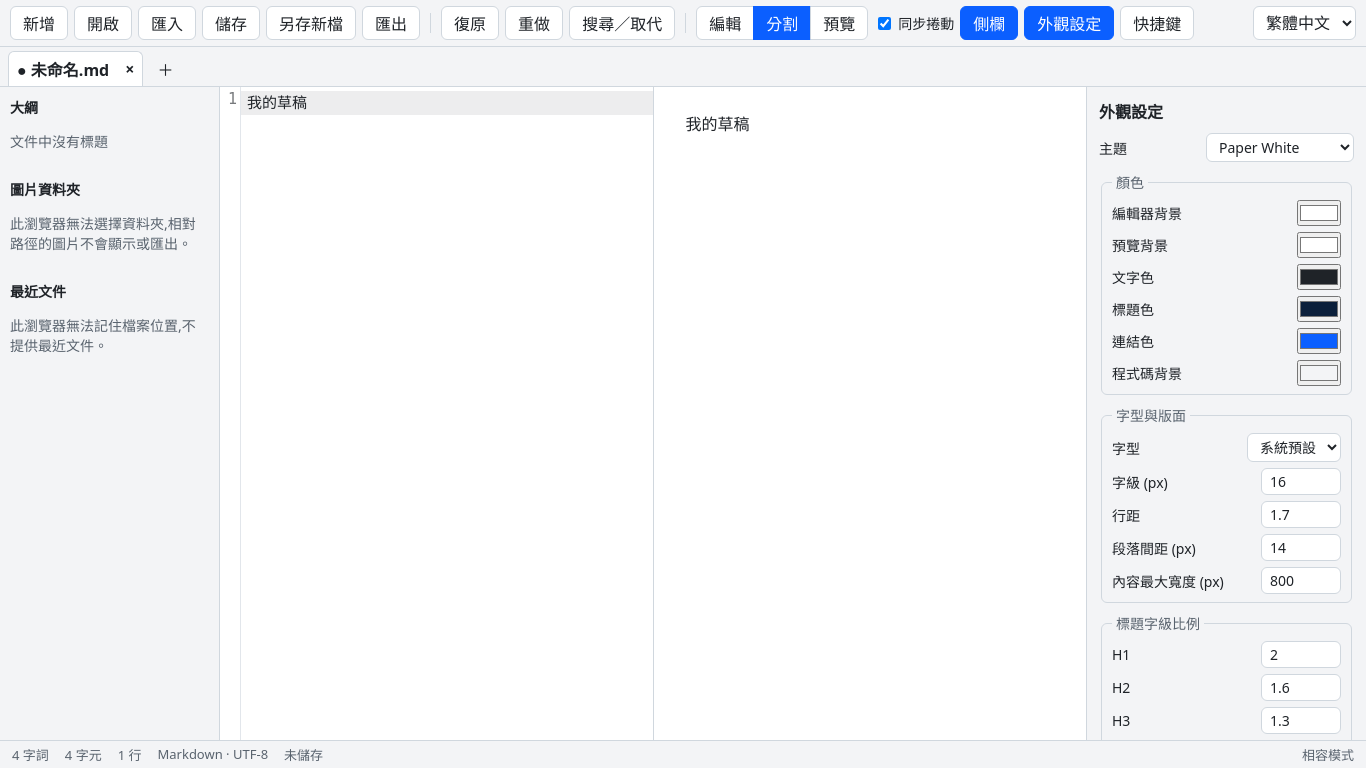
it: import flow › opens the import in a new tab and keeps the document you were editing
The width and height of the screenshot is (1366, 768).
What coordinates should you click on to do the following:
click the button "匯入"
I would click on:
 (167, 23)
Its box is [138,6,196,40].
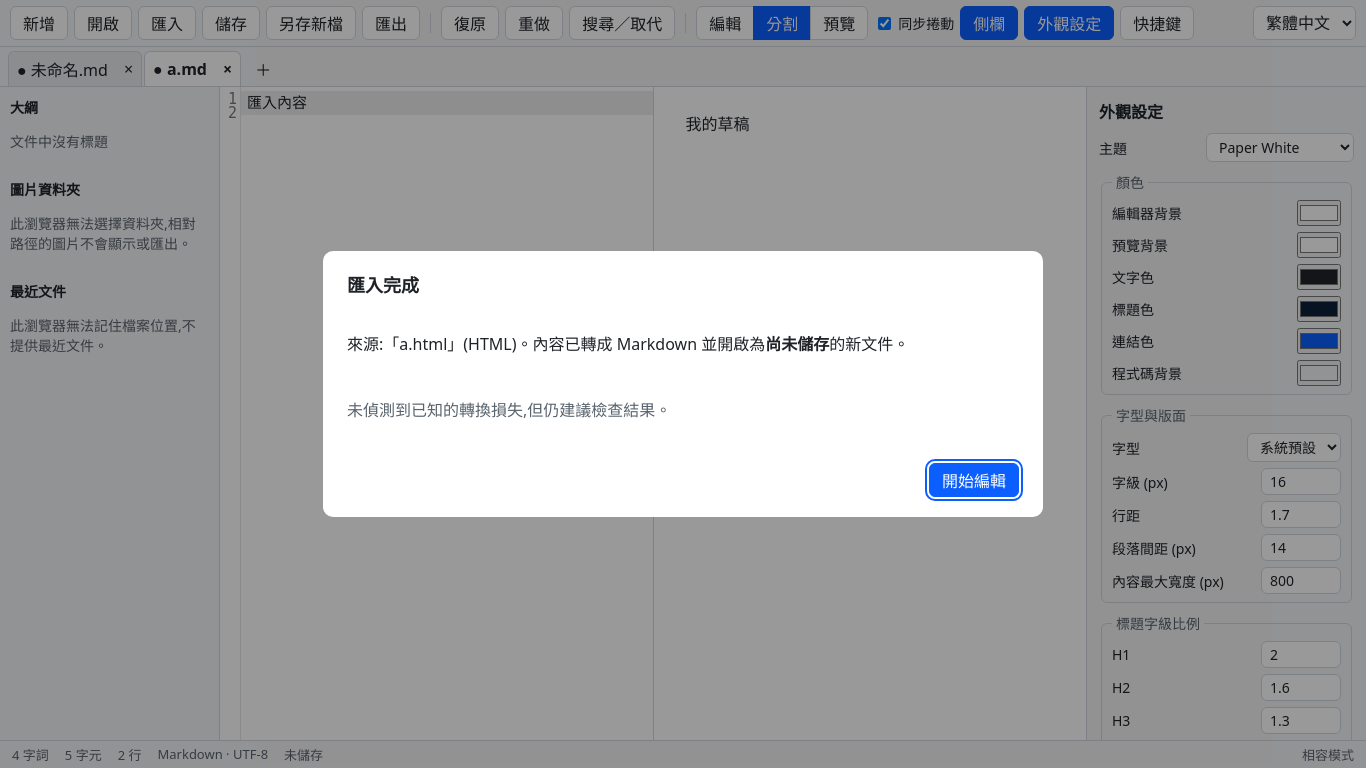
What coordinates should you click on to do the following:
click the button "開始編輯"
I would click on:
 (974, 480)
Its box is [929,463,1019,497].
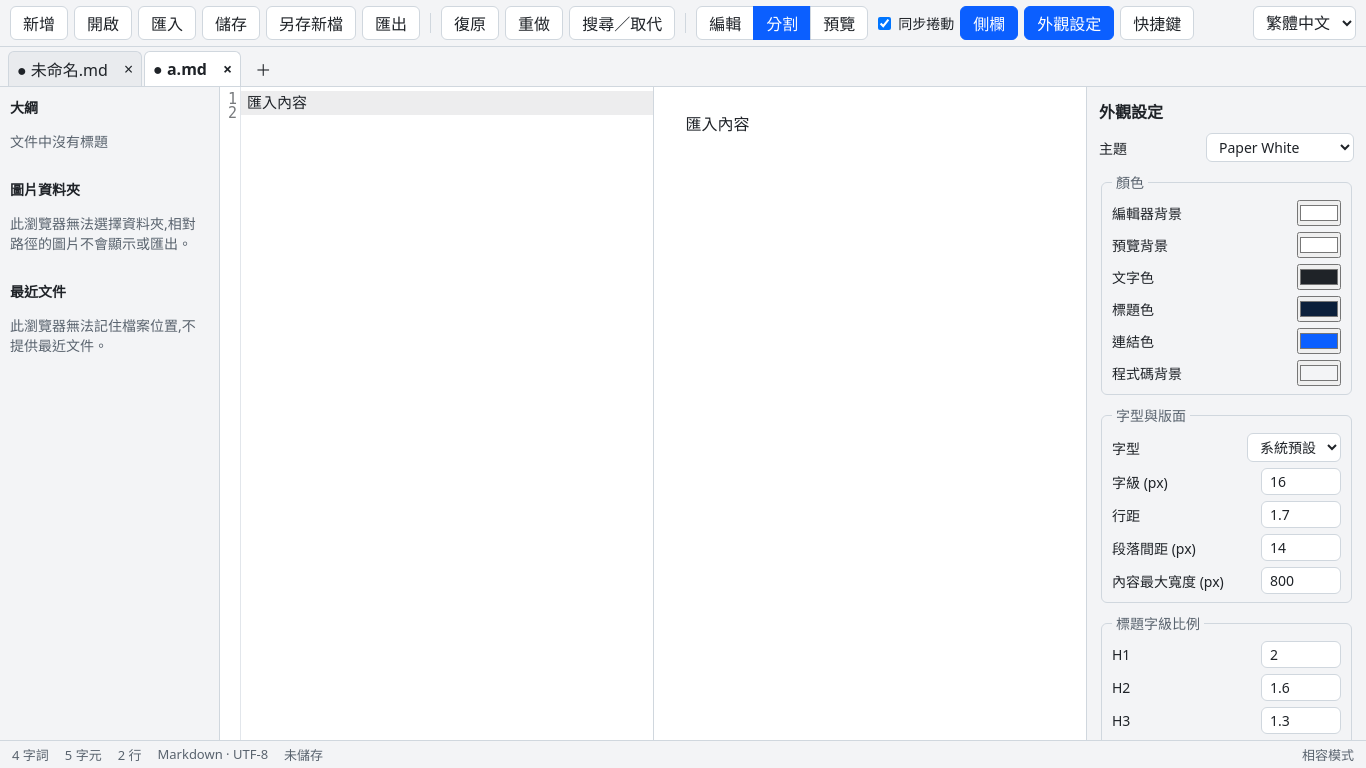
Expected: the dialog is gone
What coordinates should you click on to do the following:
click the button titled "未命名.md"
I would click on:
 (62, 69)
Its box is [9,52,116,86].
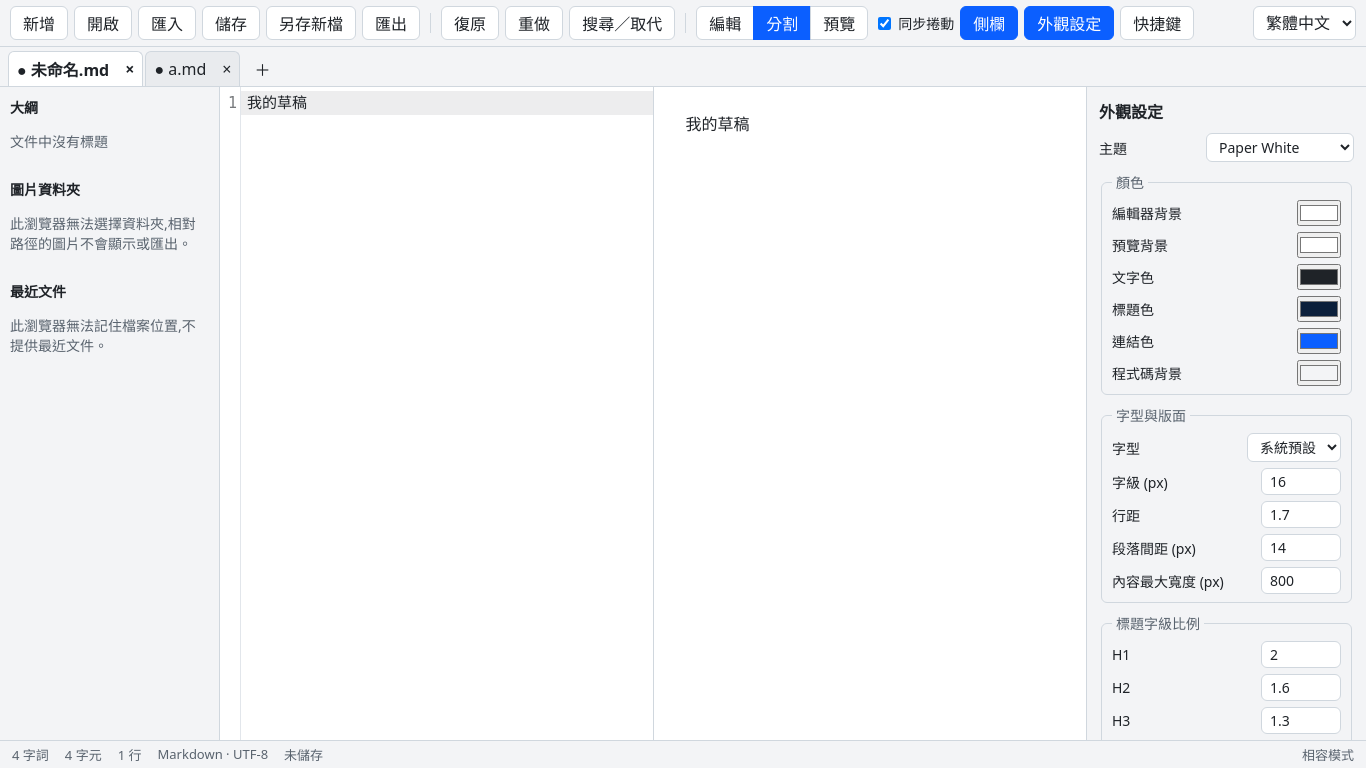
Expected: the text box labelled "我的草稿" is shown, [241,91,652,115]
